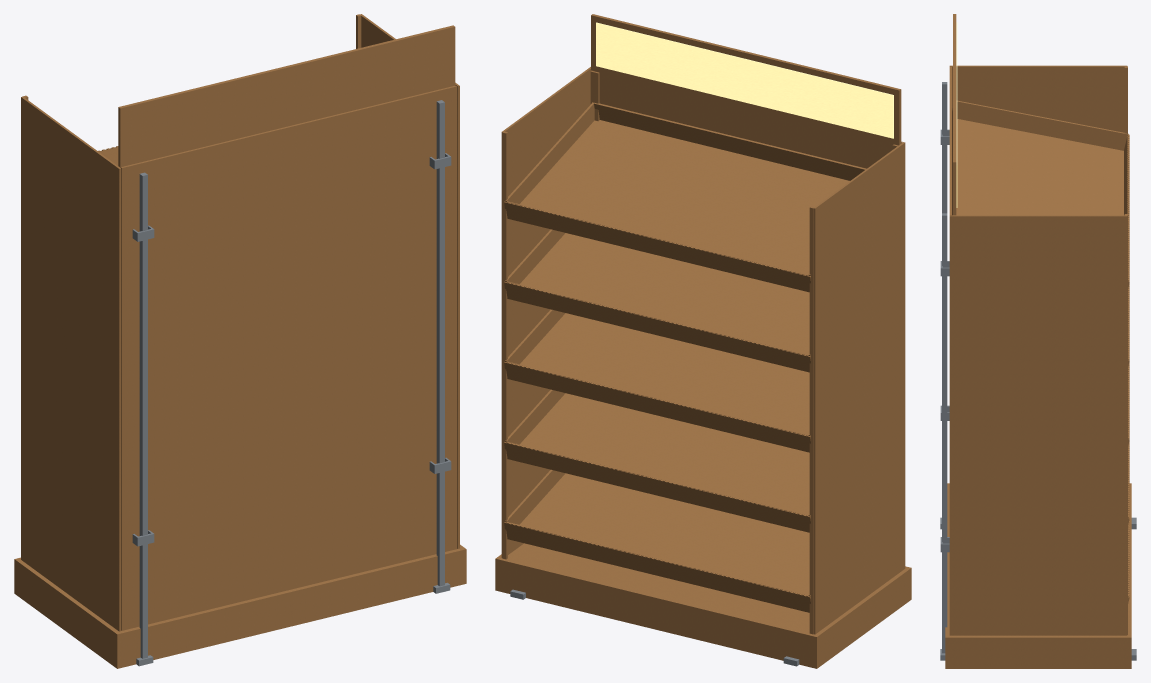
File: candy-power-wing.glb
3 views of the same model, side by side, from view 1: azimuth 30°, elevation 25°; view 2: azimuth 150°, elevation 25°; view 3: azimuth 270°, elevation 25° (orthographic). The views are drawn at different scales.
Parts seen in each view (by area): view 1: CorrugatedKraft, AttachmentSteel; view 2: CorrugatedKraft, HeaderPrint, ExposedFlute; view 3: CorrugatedKraft, AttachmentSteel, ExposedFlute, HeaderPrint.
Part boxes in pixels (box(x1,y1,x2,y2)): CorrugatedKraft: box(14, 14, 466, 668); AttachmentSteel: box(132, 100, 451, 666); CorrugatedKraft: box(495, 14, 911, 668); HeaderPrint: box(596, 22, 893, 138); ExposedFlute: box(502, 129, 814, 634); CorrugatedKraft: box(945, 14, 1131, 668); AttachmentSteel: box(940, 82, 1136, 660); ExposedFlute: box(971, 66, 1129, 634); HeaderPrint: box(956, 22, 957, 207).
Size of the model in its own units: 2.94 by 4.47 by 1.58.
Materials: 4 (3 with a texture image).
